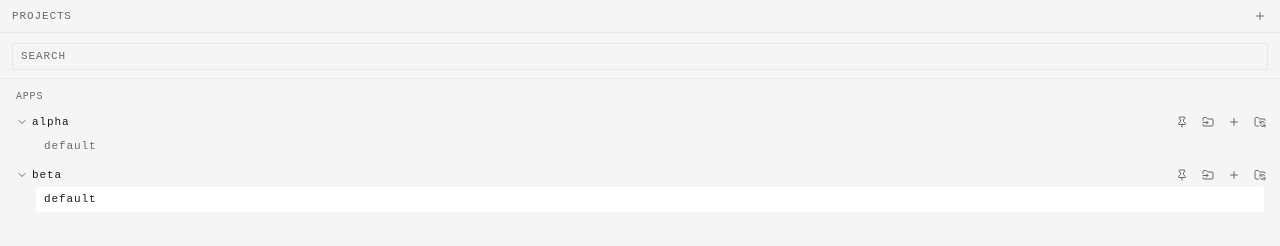
ProjectLeftPanel › renders auto groups and moves project to manual group
Expected: the text "apps" is shown, [16,90,43,102]
Expected: the button "alpha" is shown, [8,110,1168,134]
Click the button named "move alpha to group".
click(1208, 122)  # box [1196,110,1220,134]
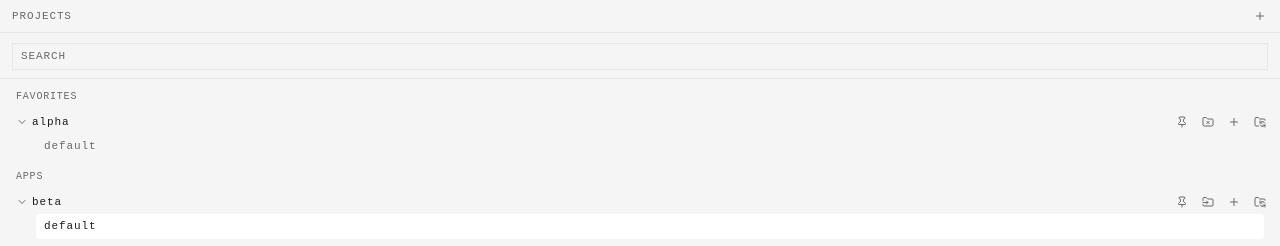
Expected: the button "beta" is shown, [8,190,1168,214]
Expected: the text "Favorites" is shown, [16,90,77,102]
Expected: the button named "remove alpha from group" is shown, [1196,110,1220,134]
